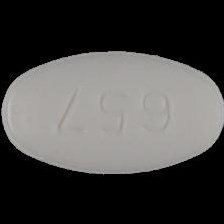0591-0657: (0, 0, 224, 224)
